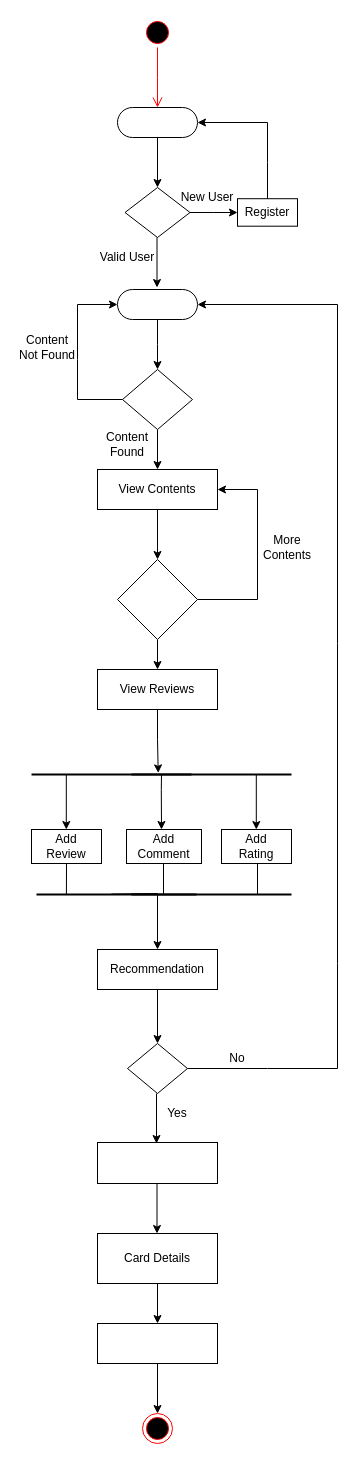
Image size: 363x1461. Some labels were removed from this diagram. The box of each missing label's shape, as (x1, y1, x2, y2) in pixels:
Login: (116, 106, 198, 138)
Payment: (96, 1142, 218, 1184)
Search Contents: (116, 288, 198, 320)
Subscribed: (96, 1322, 218, 1364)
